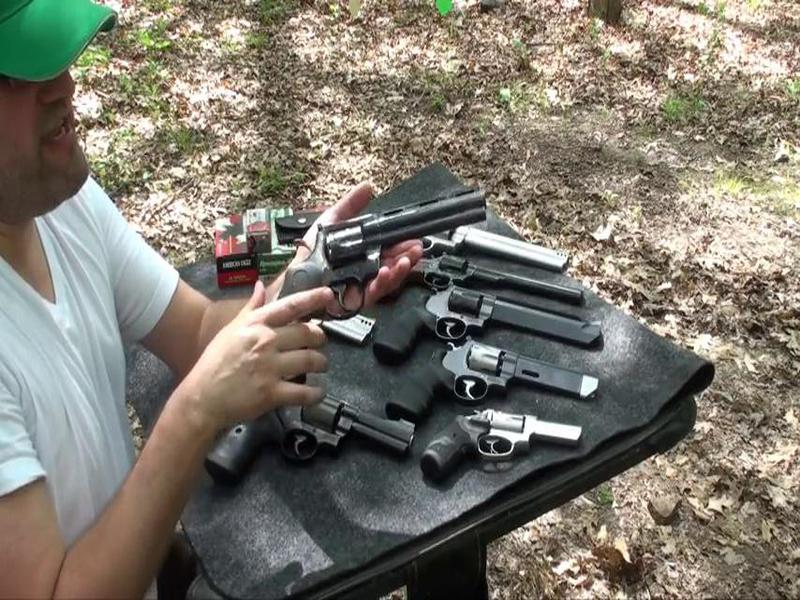Revolver: (258, 184, 511, 322)
